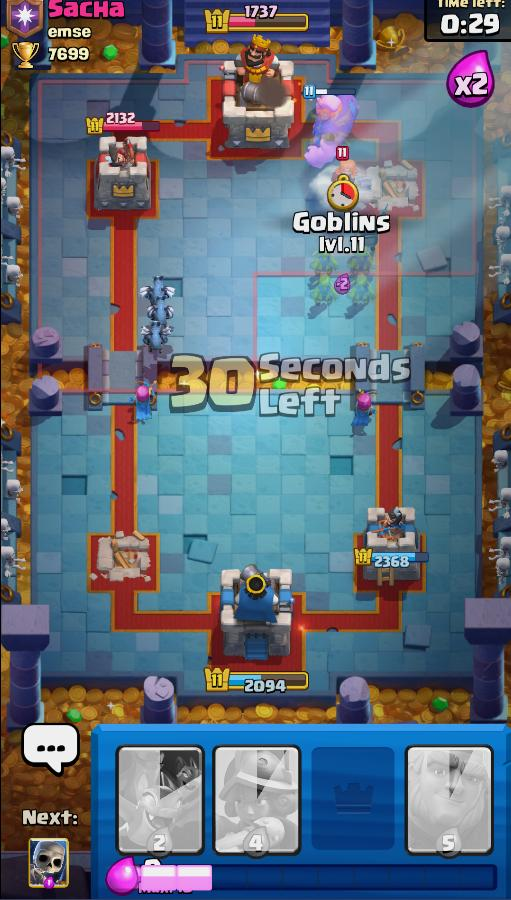archere: (346, 384, 387, 438), (125, 379, 168, 429)
gargouille: (130, 317, 180, 357), (125, 271, 184, 304), (136, 292, 185, 331)
geant: (295, 93, 374, 169)
gobelin: (340, 240, 390, 282), (345, 274, 393, 311), (307, 247, 347, 284), (308, 276, 340, 312)
valkyrie: (324, 159, 370, 201)
